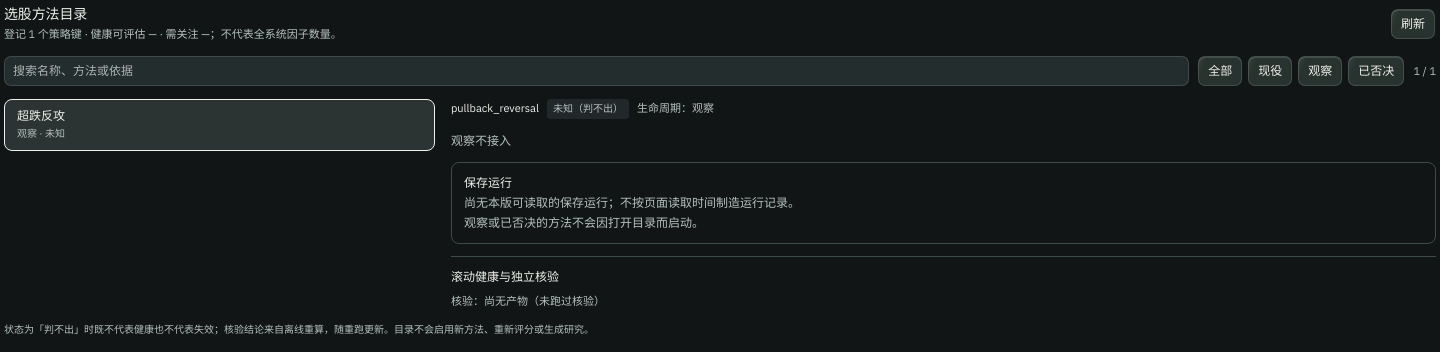
方法目录 · 保存运行与联动 › 空目录搜索提供恢复路径，不把运行缺失称未执行
Check: the text "超跌反攻" is shown, box [17,108,65,123]
Check: the text "尚无本版可读取的保存运行；不按页面读取时间制造运行记录。" is shown, box [464,195,800,210]
Type "不存在的方法" into the field named "搜索方法" at (597, 71), box [4,56,1189,86]
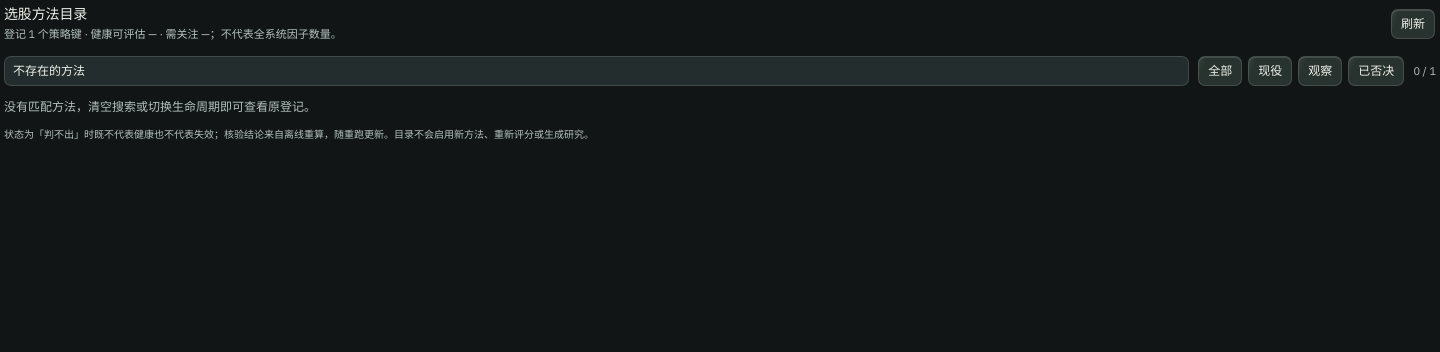
Check: the text "没有匹配方法，清空搜索或切换生命周期即可查看原登记。" is shown, box [4,99,316,114]
